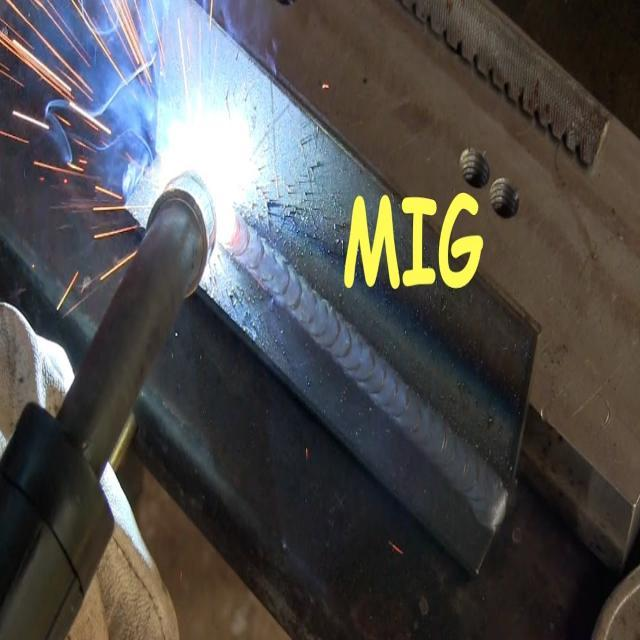Good Weld: (283, 295, 507, 538)
